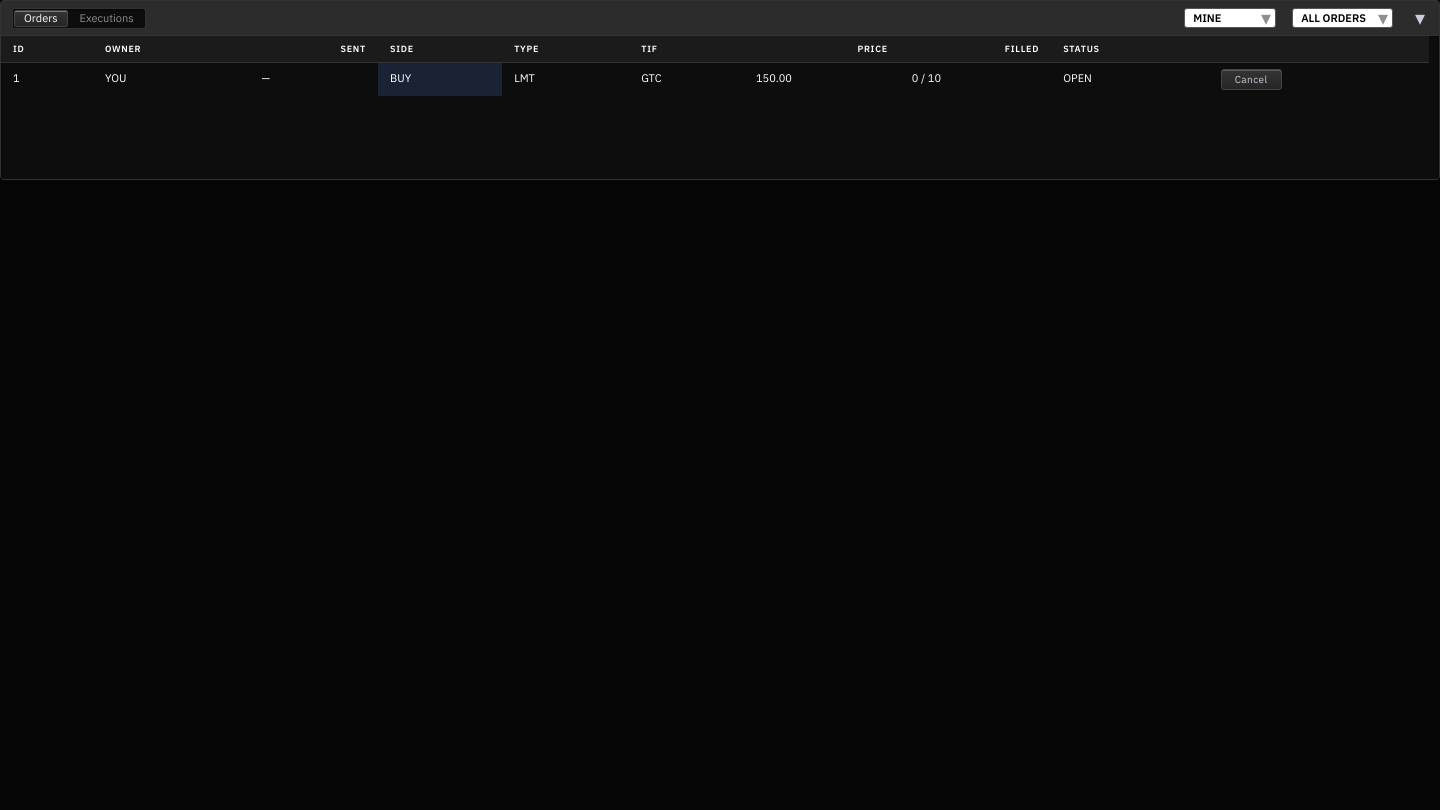
§10 primary-action labels render uppercase (CSS only) › keeps the DOM text and accessible names as written
Click the button with test id "cancel-1" at (1251, 79), box [1221, 69, 1282, 90]
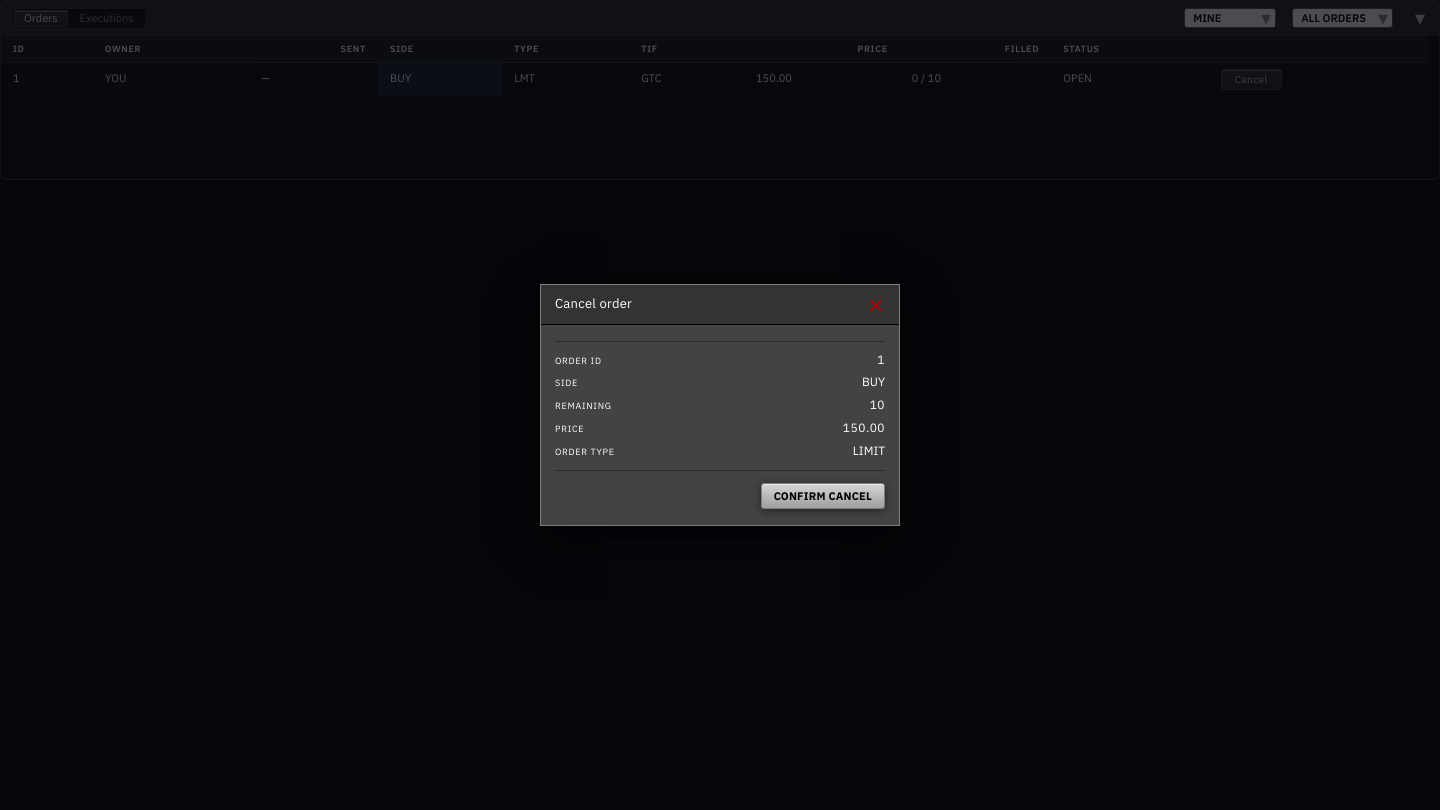
Check: the button "Confirm Cancel" is shown, box [761, 483, 885, 509]
